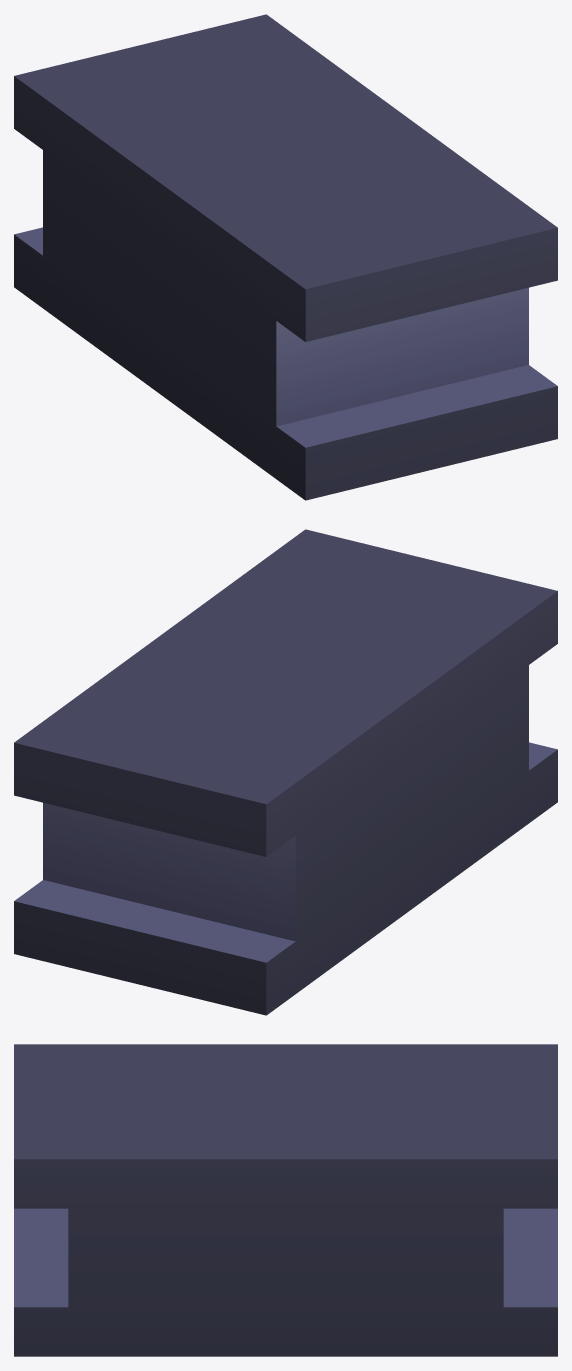
The model's file is kenney-factory-conveyor-long-part-middle.glb.
3 views of the same model, one above another, from view 1: azimuth 30°, elevation 25°; view 2: azimuth 150°, elevation 25°; view 3: azimuth 270°, elevation 25° (orthographic). The views are drawn at different scales.
Parts seen in each view (by area): view 1: conveyor-long-part-middle; view 2: conveyor-long-part-middle; view 3: conveyor-long-part-middle.
Part boxes in pixels (bbox=[...]): conveyor-long-part-middle: bbox=[14, 14, 557, 500]; conveyor-long-part-middle: bbox=[14, 529, 557, 1015]; conveyor-long-part-middle: bbox=[14, 1044, 557, 1356].
Bounding box in the file's own units: 0.5001 × 0.3999 × 1.
Materials: 1 (1 with a texture image).
